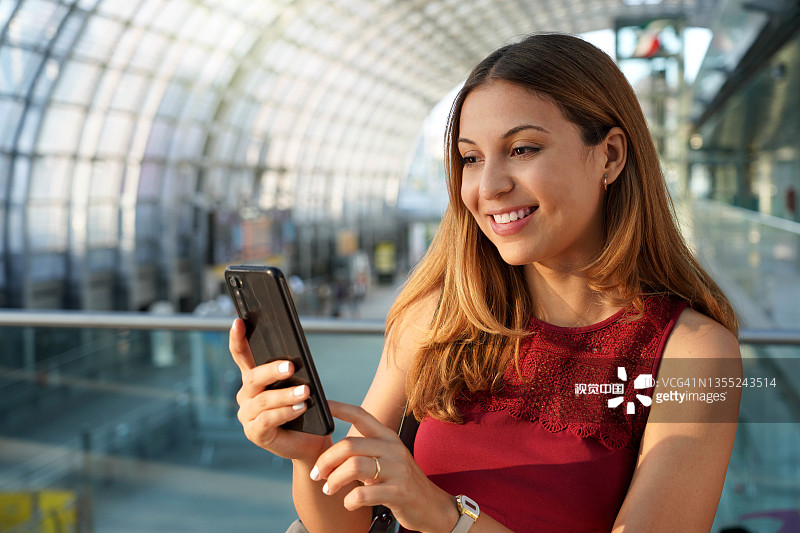reading: (202, 257, 450, 533)
